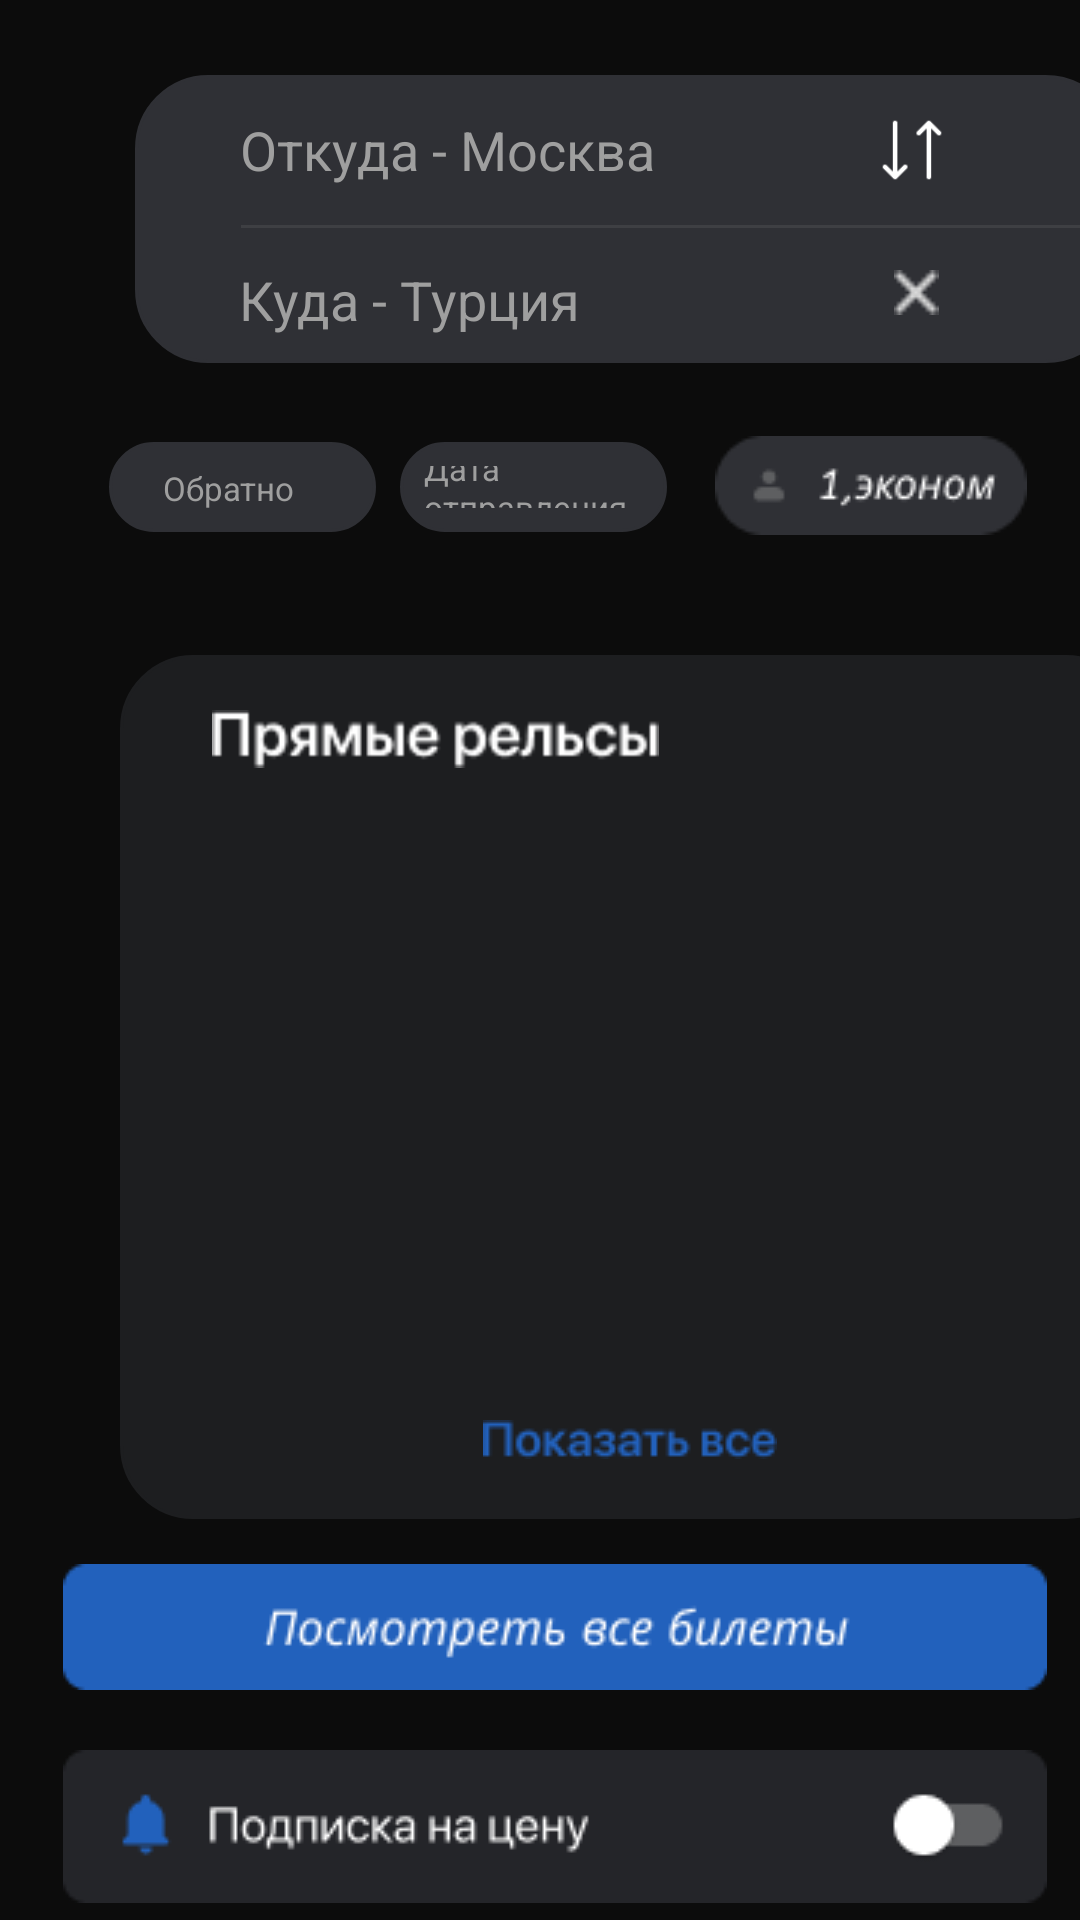

Point at icon controls on the screen. Image size 1080px×1920px, points as (x=x, y=y).
swap: (x=912, y=150)
